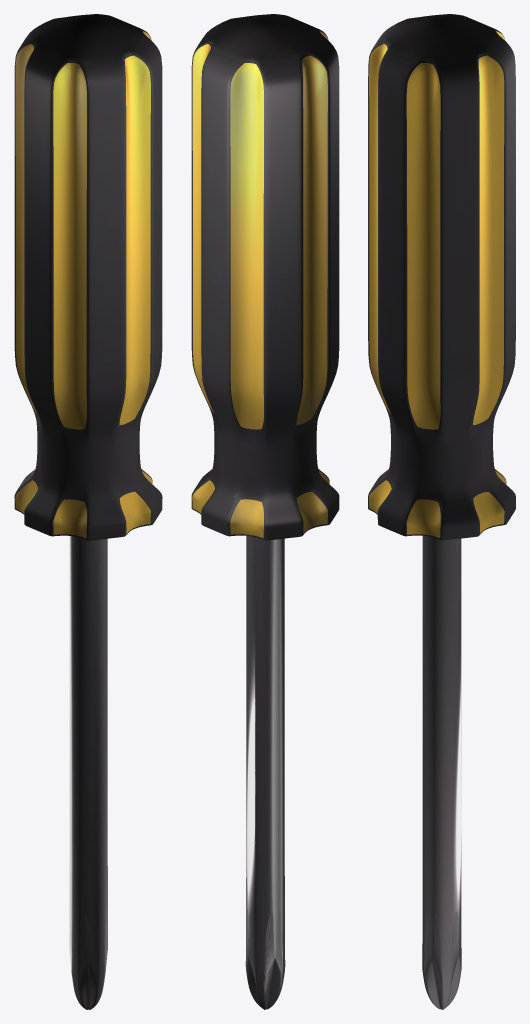
File: Screwdriver.fbx
The picture shows the model from 3 angles, left to right: view 1: azimuth 30°, elevation 25°; view 2: azimuth 150°, elevation 25°; view 3: azimuth 270°, elevation 25°; orthographic projection.
Parts seen in each view (by area): view 1: Screwdriver; view 2: Screwdriver; view 3: Screwdriver.
Boxes of the visible parts, x1=… form: Screwdriver: x1=14, y1=14, x2=162, y2=1009; Screwdriver: x1=191, y1=14, x2=339, y2=1009; Screwdriver: x1=368, y1=14, x2=515, y2=1009.
Size of the model in its own units: 14.2 by 14.2 by 104.
Materials: 1 (1 with a texture image).
